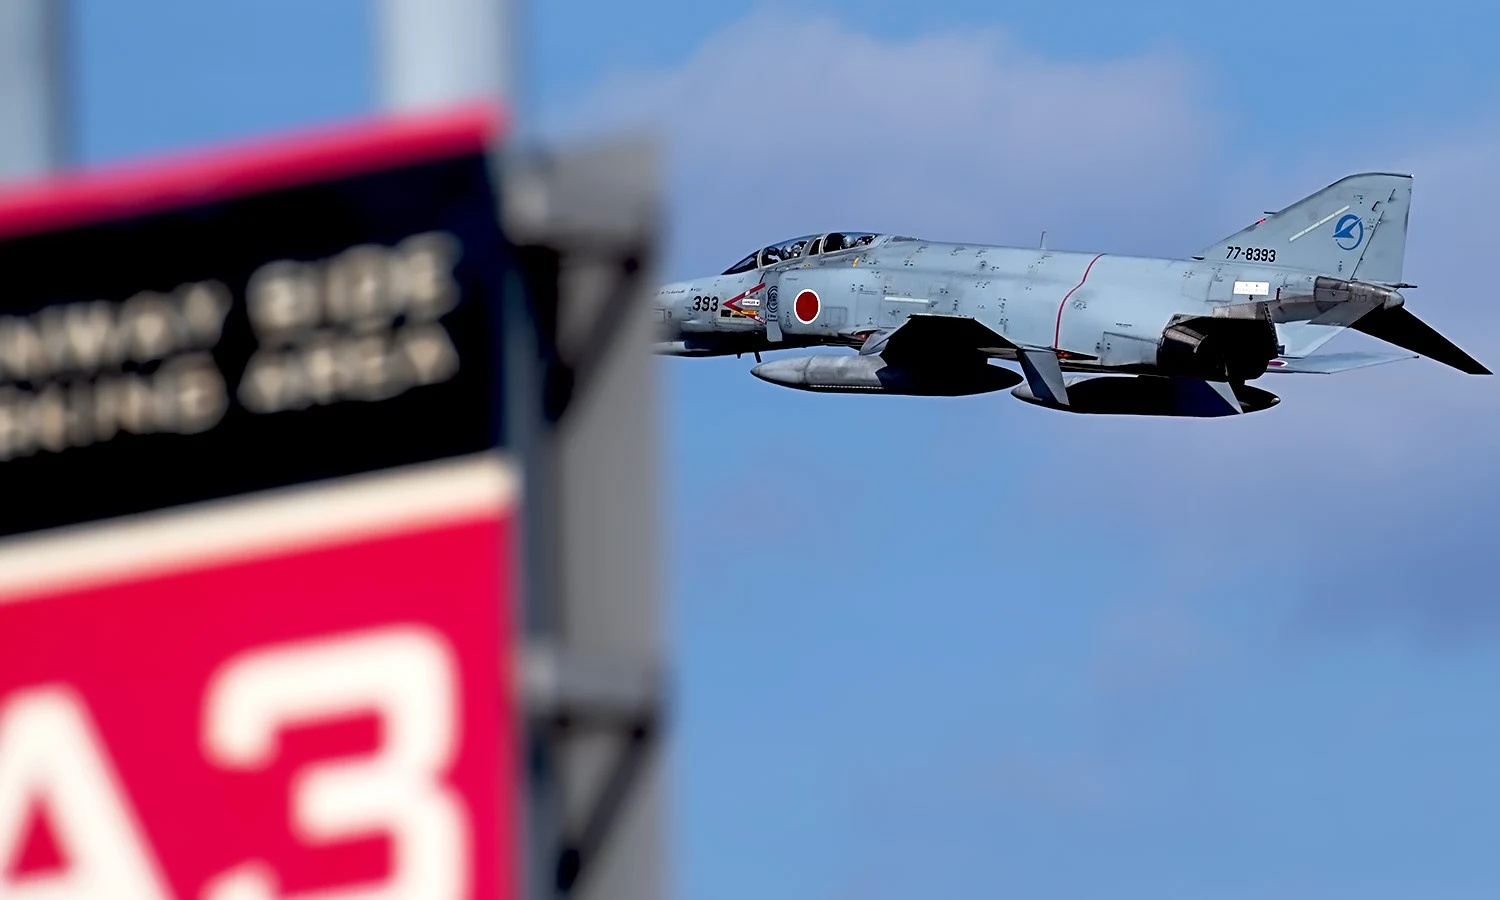F4: (648, 172, 1494, 418)
